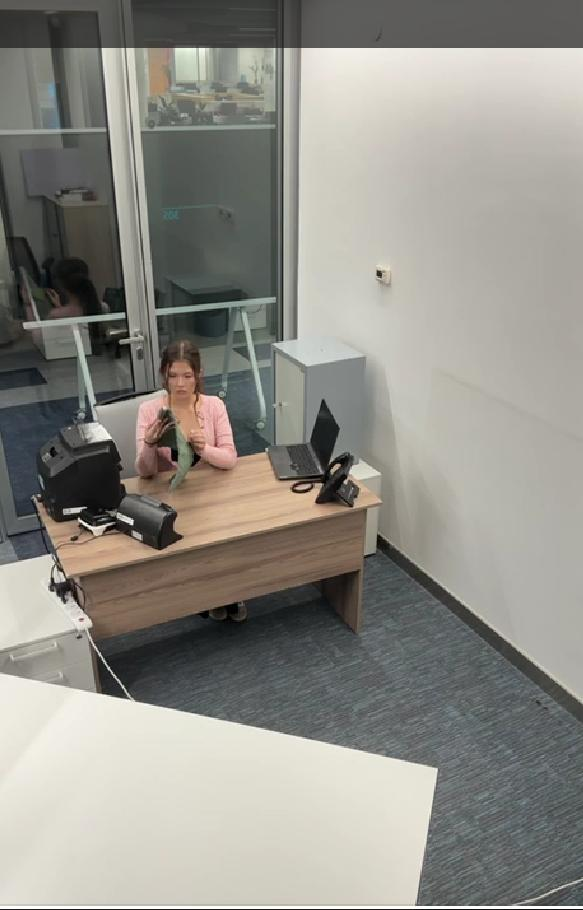cash-in-transit bag: (140, 412, 211, 502)
counter: (32, 420, 127, 530)
key_in: (268, 384, 293, 426)
uv_lamp: (116, 496, 189, 546)
